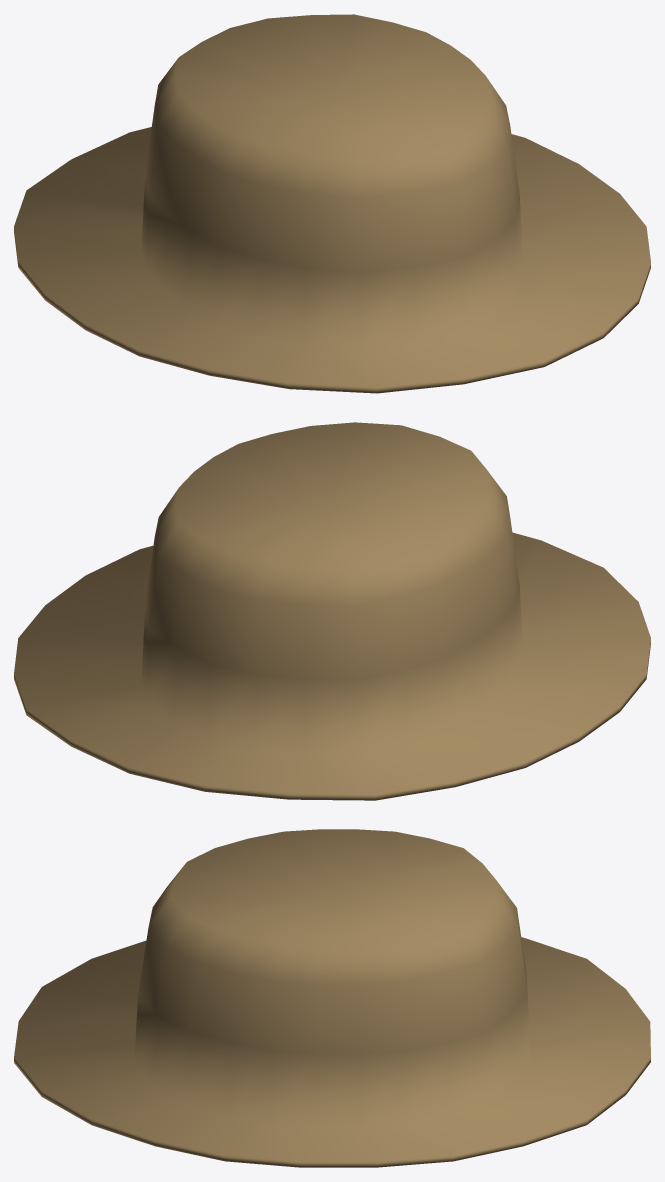
Rendered from accessory_hat_female.glb.
3 views of the same model, one above another, from view 1: azimuth 30°, elevation 25°; view 2: azimuth 150°, elevation 25°; view 3: azimuth 270°, elevation 25° (orthographic). The views are drawn at different scales.
Visible parts, largest first — view 1: accessory_hat; view 2: accessory_hat; view 3: accessory_hat.
Part boxes in pixels (<box>): accessory_hat: <box>14,14,650,393</box>; accessory_hat: <box>14,422,650,800</box>; accessory_hat: <box>14,829,650,1167</box>.
Size of the model in its own units: 0.3602 by 0.119 by 0.3948.
